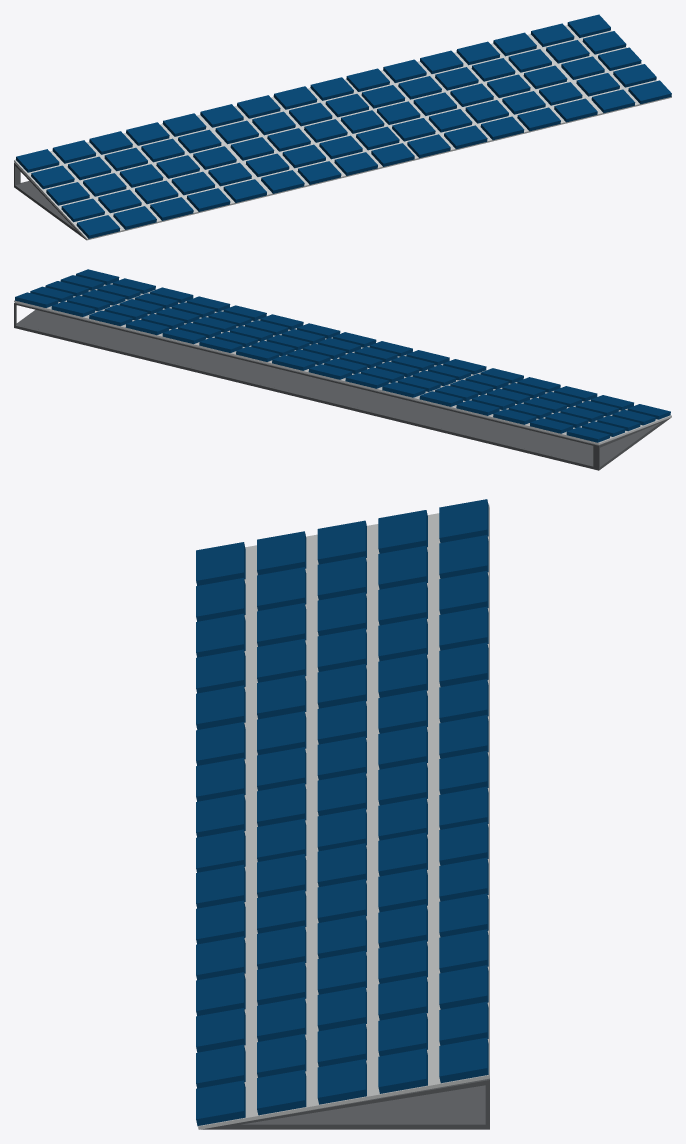
The model's file is solar-panel-5x16-small.glb.
The picture shows the model from 3 angles, top to bottom: view 1: azimuth 30°, elevation 25°; view 2: azimuth 150°, elevation 25°; view 3: azimuth 270°, elevation 25°; orthographic projection. The views are drawn at different scales.
Parts seen in each view (by area): view 1: Mesh_Mesh_head_geo.001_lambert2SG.001; view 2: Mesh_Mesh_head_geo.001_lambert2SG.001; view 3: Mesh_Mesh_head_geo.001_lambert2SG.001.
Boxes of the visible parts, x1,y1,x2,y2 form: Mesh_Mesh_head_geo.001_lambert2SG.001: [14, 14, 671, 240]; Mesh_Mesh_head_geo.001_lambert2SG.001: [14, 269, 671, 470]; Mesh_Mesh_head_geo.001_lambert2SG.001: [196, 499, 489, 1129].
Bounding box in the file's own units: 492 × 24.65 × 107.
